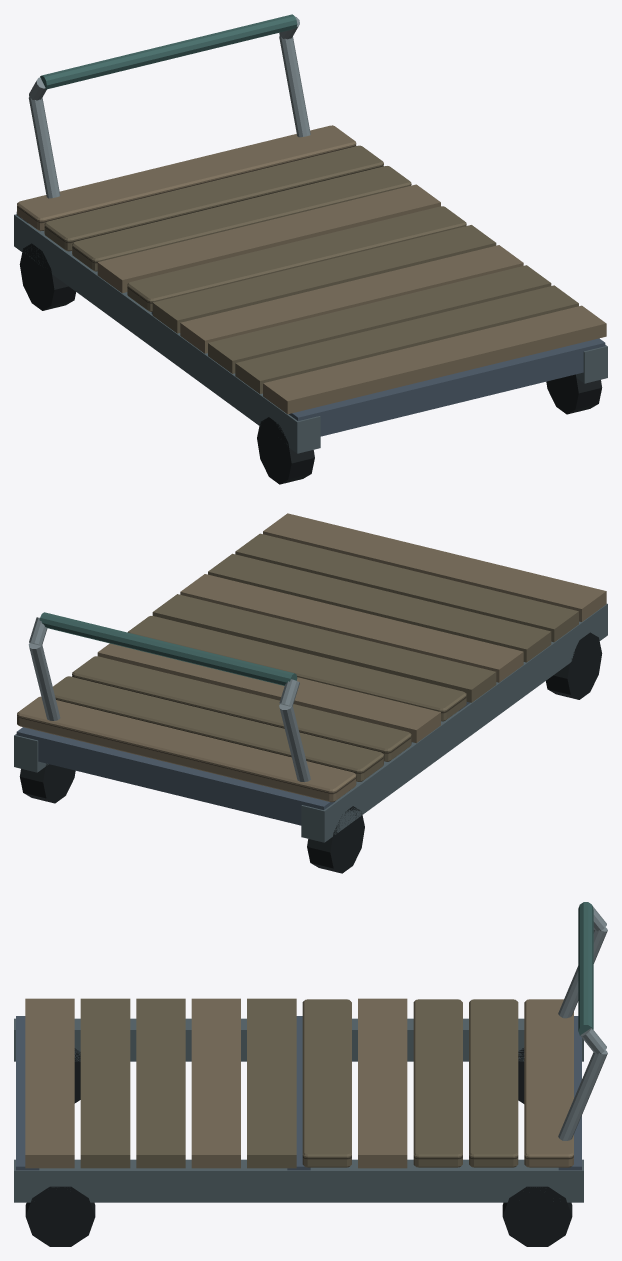
File: HD-06_transfer_dolly.glb
3 renders of one model, top to bottom at view 1: azimuth 30°, elevation 25°; view 2: azimuth 150°, elevation 25°; view 3: azimuth 270°, elevation 25°, orthographic.
Visible parts, largest first — view 1: HD-06_transfer_dolly; view 2: HD-06_transfer_dolly; view 3: HD-06_transfer_dolly.
Boxes of the visible parts, box(x1,y1,x2,y2) form: HD-06_transfer_dolly: box(14, 14, 607, 484); HD-06_transfer_dolly: box(14, 513, 607, 873); HD-06_transfer_dolly: box(14, 902, 607, 1246).
Size of the model in its own units: 1.91 by 1.18 by 3.06.
